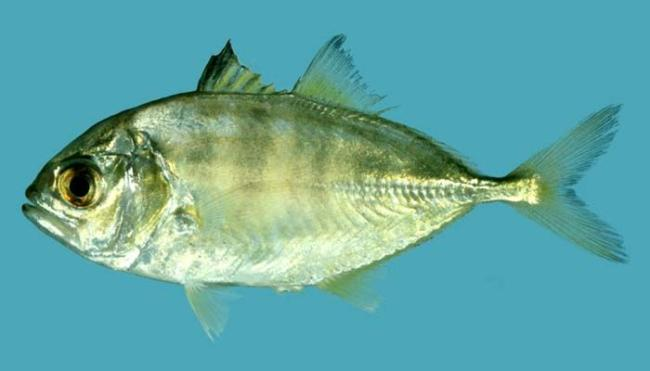fish: (21, 34, 632, 344)
